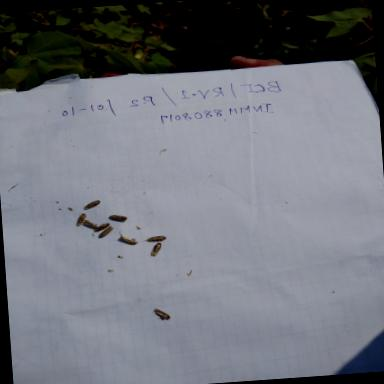pbw: (143, 241, 170, 259), (116, 228, 140, 246), (93, 221, 115, 239), (152, 306, 172, 322), (71, 211, 89, 228), (142, 233, 172, 243), (82, 198, 103, 212), (106, 212, 128, 223), (80, 218, 98, 231)
